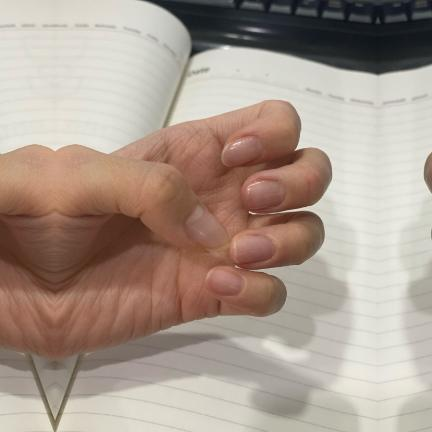Nail: (183, 204, 230, 251), (221, 136, 262, 166), (246, 179, 285, 210), (233, 236, 275, 264), (205, 267, 242, 295)
